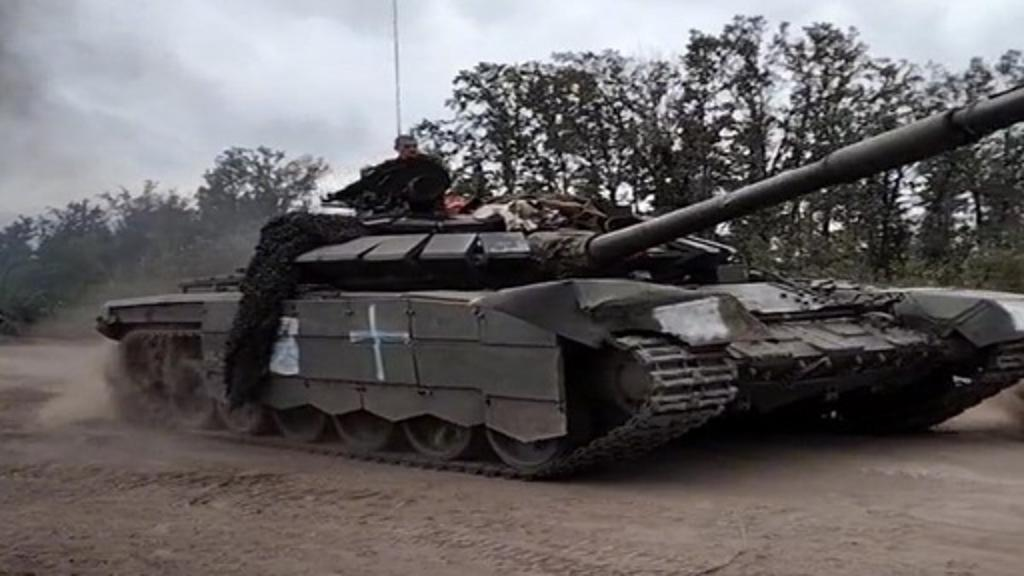TANK: (72, 84, 1022, 466)
